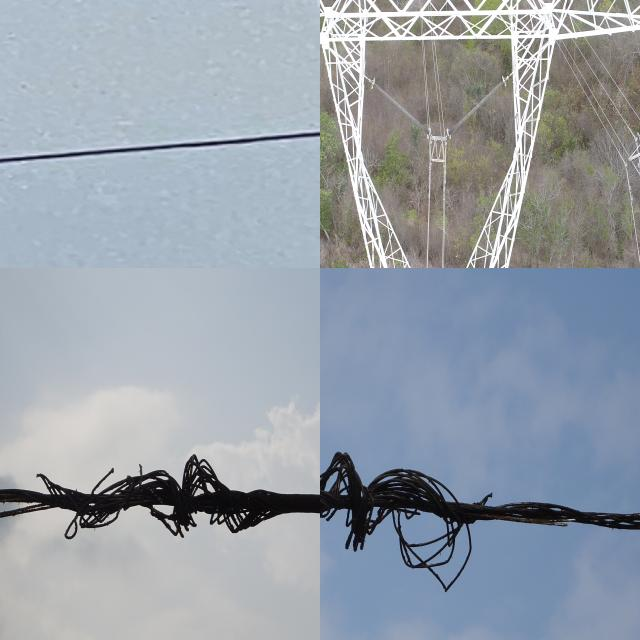杆塔: (320, 0, 640, 268)
正常电缆: (618, 182, 640, 268)
正常绝缘子: (445, 73, 508, 142), (369, 77, 431, 140)
电缆破损: (320, 443, 640, 595), (0, 447, 296, 546)
